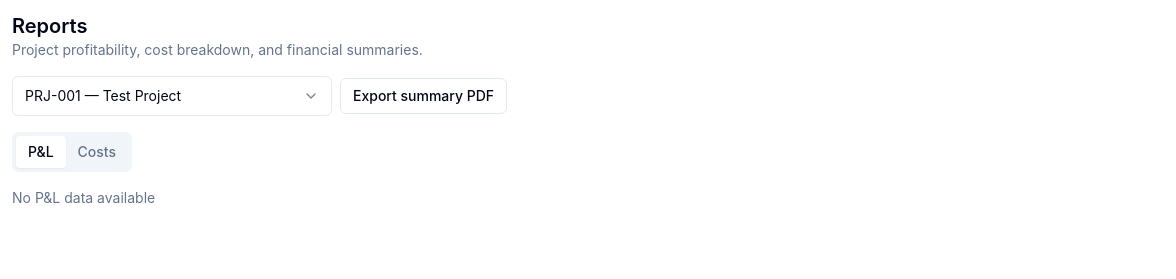
Test: ReportsPage › shows loading costs
What coordinates should you click on to do the following:
click the tab "Costs"
I would click on:
 (97, 152)
Its box is x1=66 y1=136 x2=128 y2=168.
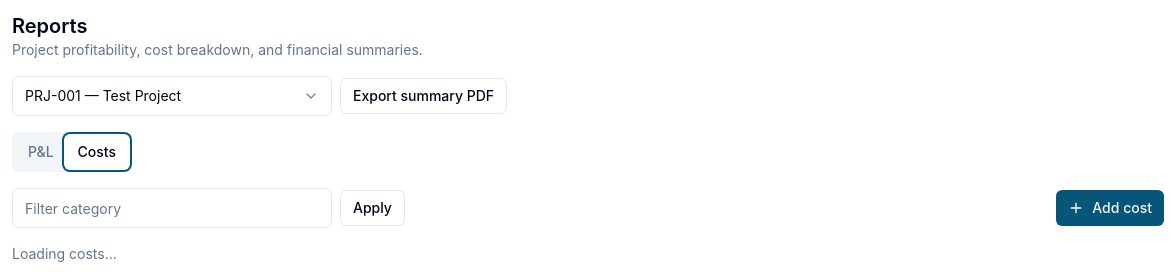
Check: the text "Loading costs..." is shown, box x1=12 y1=245 x2=117 y2=262
